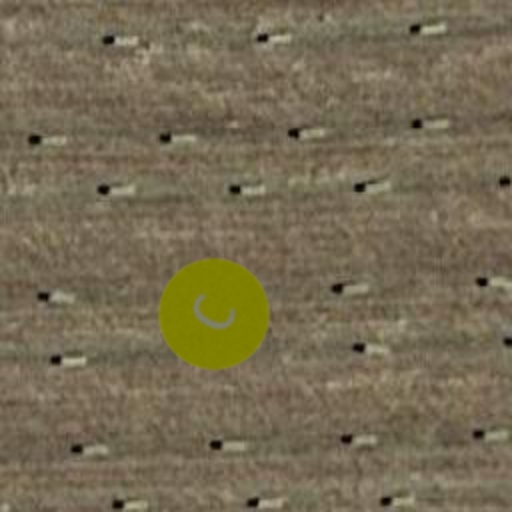circle: (138, 238, 290, 390)
